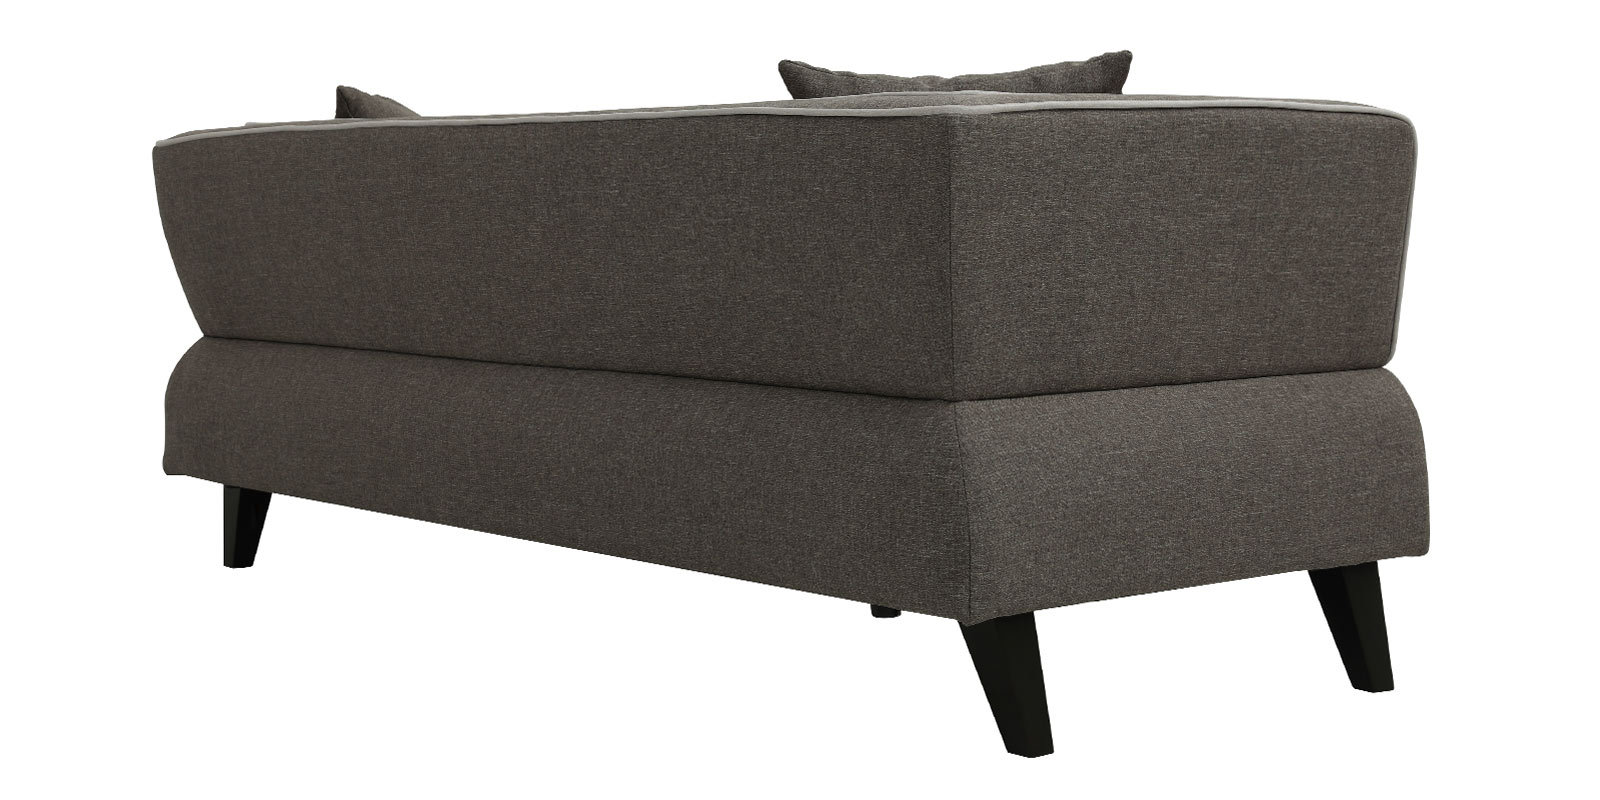Dime Three Seater Sofa in Grey Colour by Zofa: (137, 32, 1460, 774)
